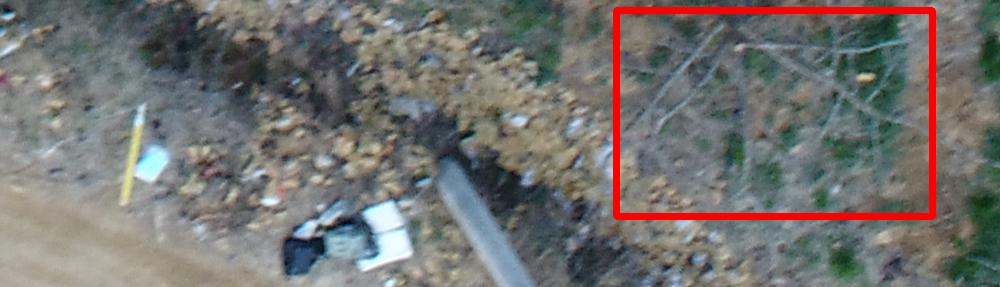apple: (616, 10, 932, 216)
